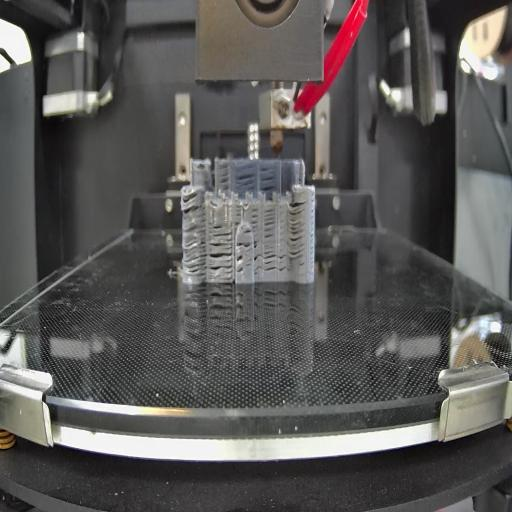cracks: (183, 226, 208, 276), (289, 199, 304, 262), (210, 242, 233, 276), (180, 194, 202, 216), (260, 165, 276, 194), (237, 171, 257, 192), (263, 208, 275, 240), (264, 248, 277, 273), (212, 226, 232, 240), (254, 238, 261, 273), (220, 171, 231, 192), (250, 206, 259, 229), (278, 250, 286, 272), (233, 206, 242, 225), (236, 241, 253, 250), (236, 256, 244, 273), (242, 229, 252, 234)
